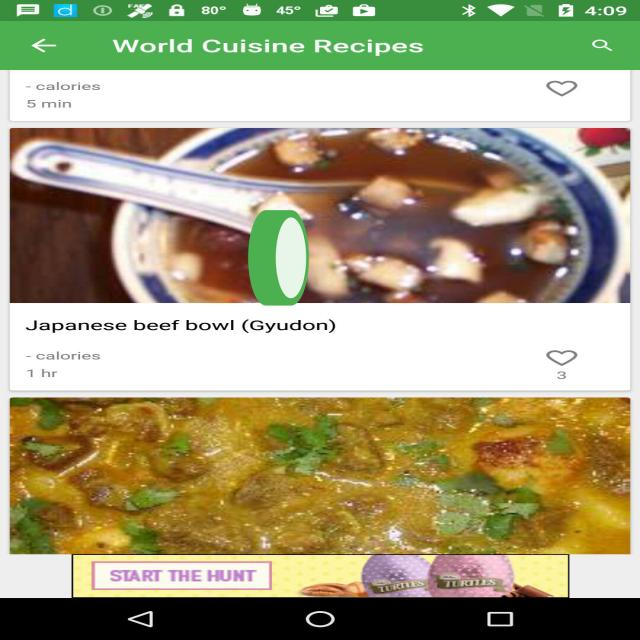social proof: (245, 173, 312, 350)
